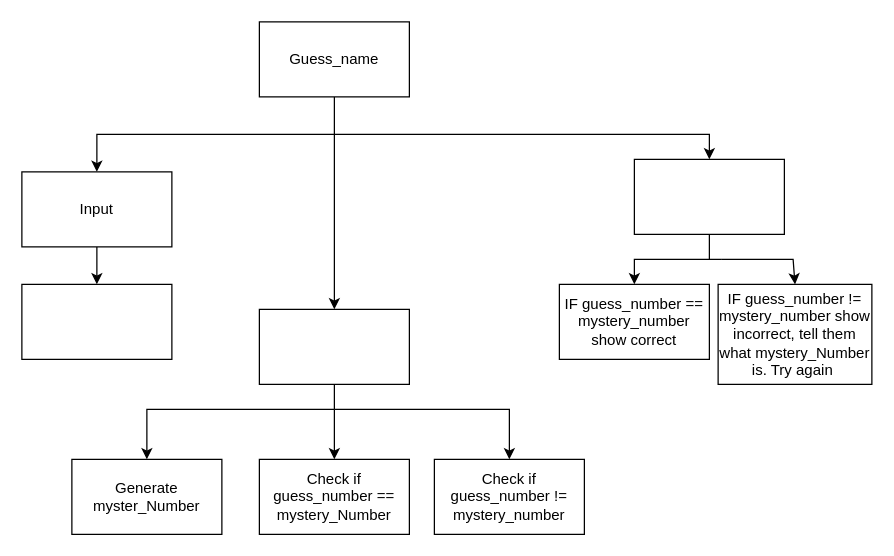
Image size: 894x556. Some labels were removed from this diagram. Here are the shapes that lost their labels. From the top down, the centre of each, then its label:
the point at 708,196: Output
the point at 96,321: Get guess_number
the point at 333,346: Process
